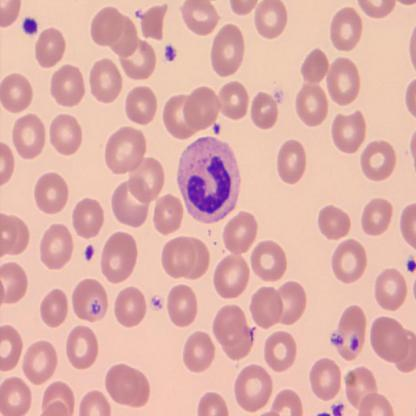Band Neutrophil: (173, 132, 243, 228)
